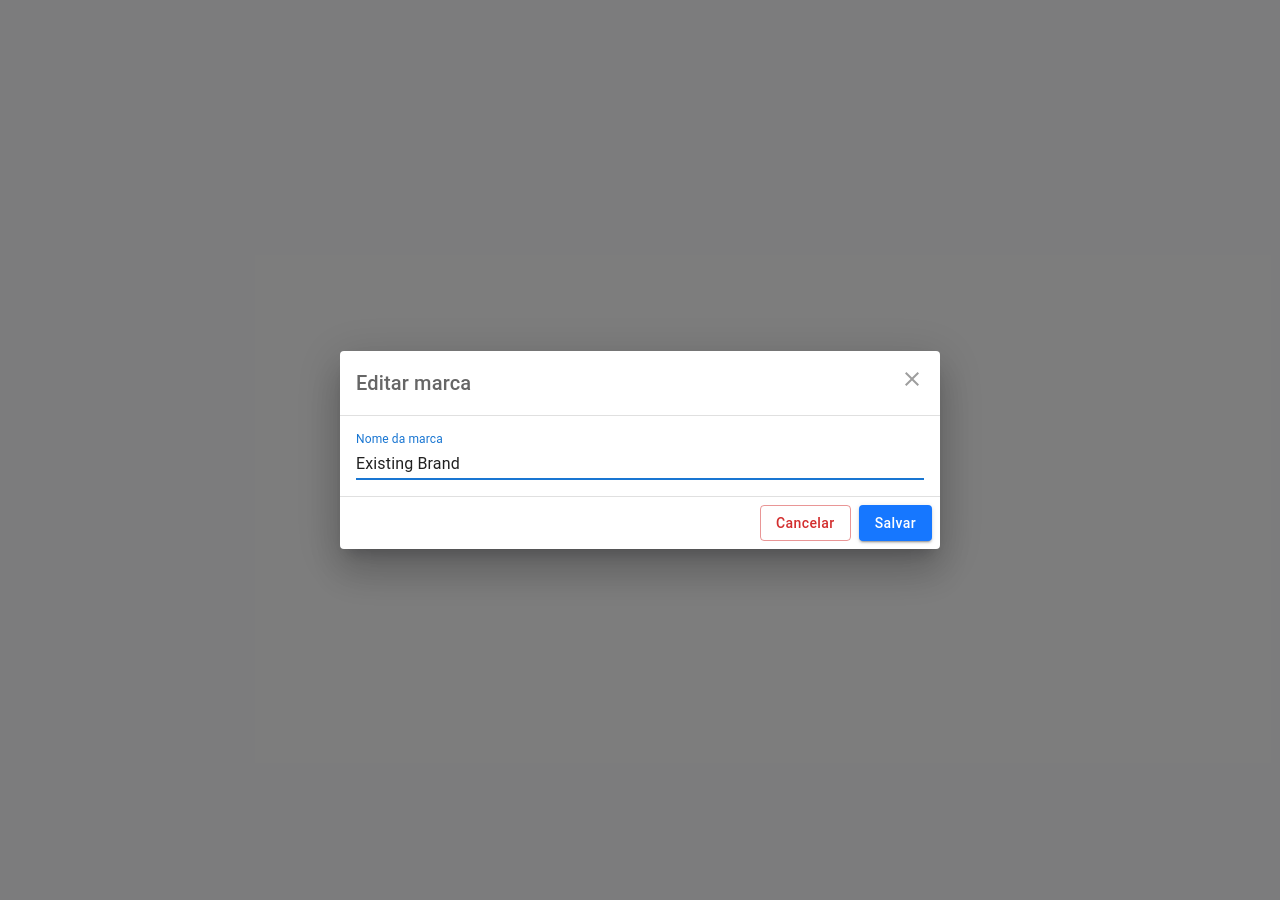
Test: BrandModal › should display an error message on deletion error
Click the button "Salvar" at {"x": 895, "y": 523}, box [859,505,932,541]
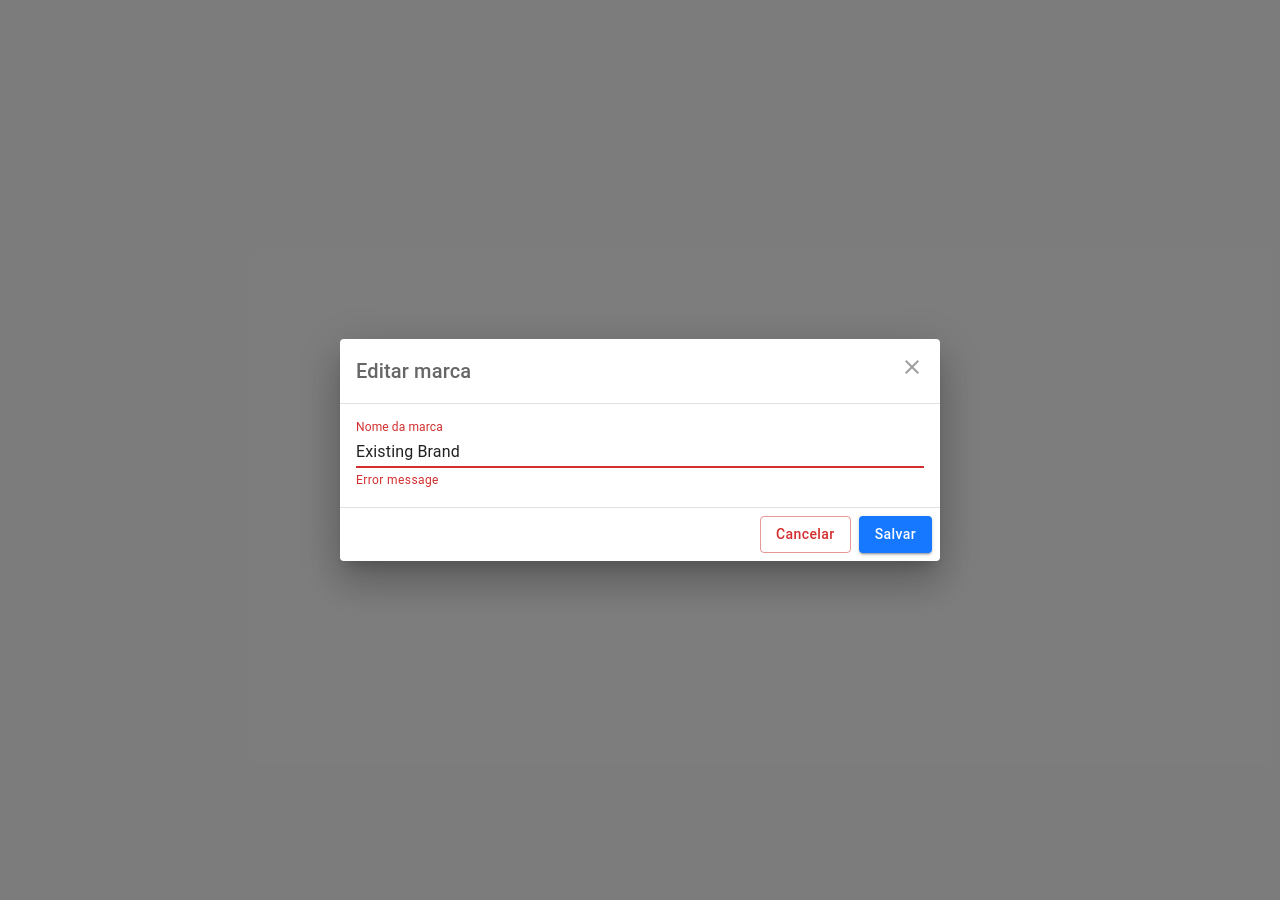
Expected: the text "Error message" is shown, [356,473,439,487]
